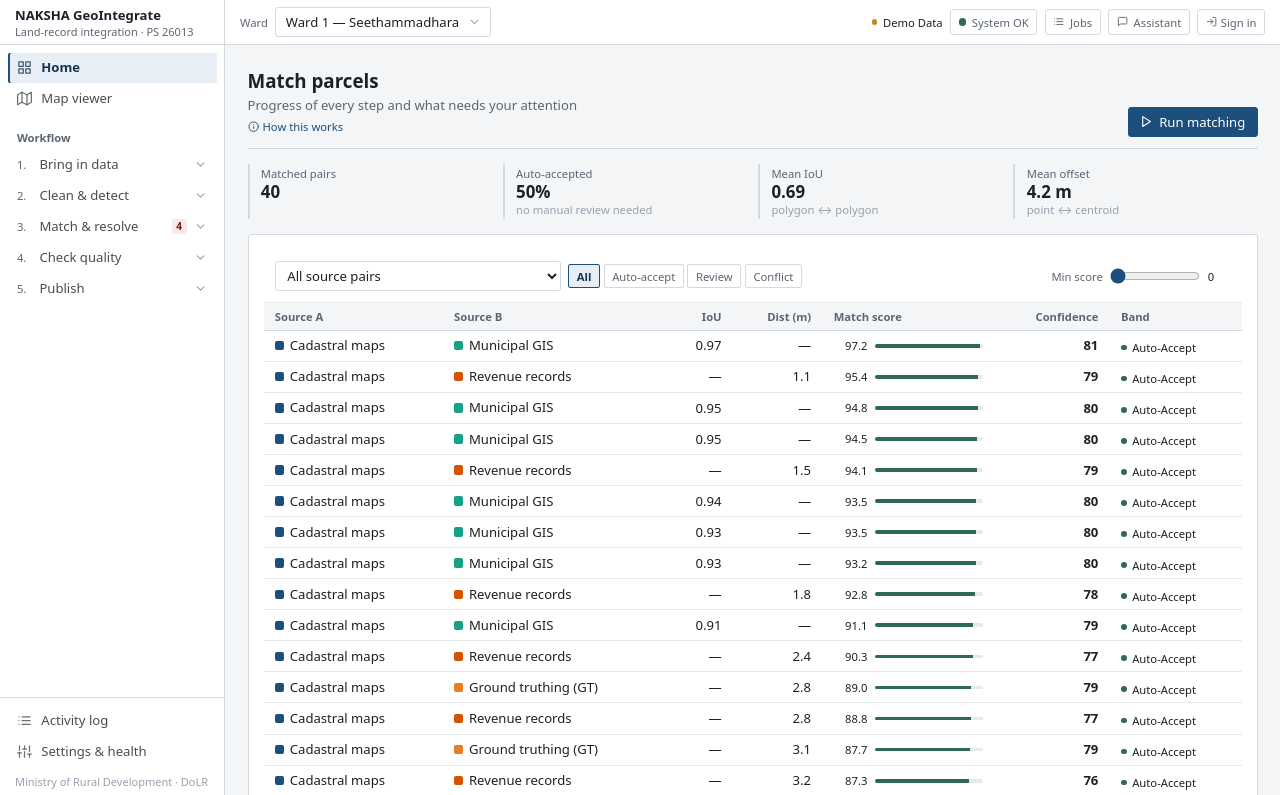
Test case: MatchingPage › shows scored matches and the confidence breakdown for a selected pair
Click the row "Cadastral maps Municipal GIS 0.97 — 97.2 81 Auto-accept" at [752, 346], box [264,330,1242,361]
(page scrolled)
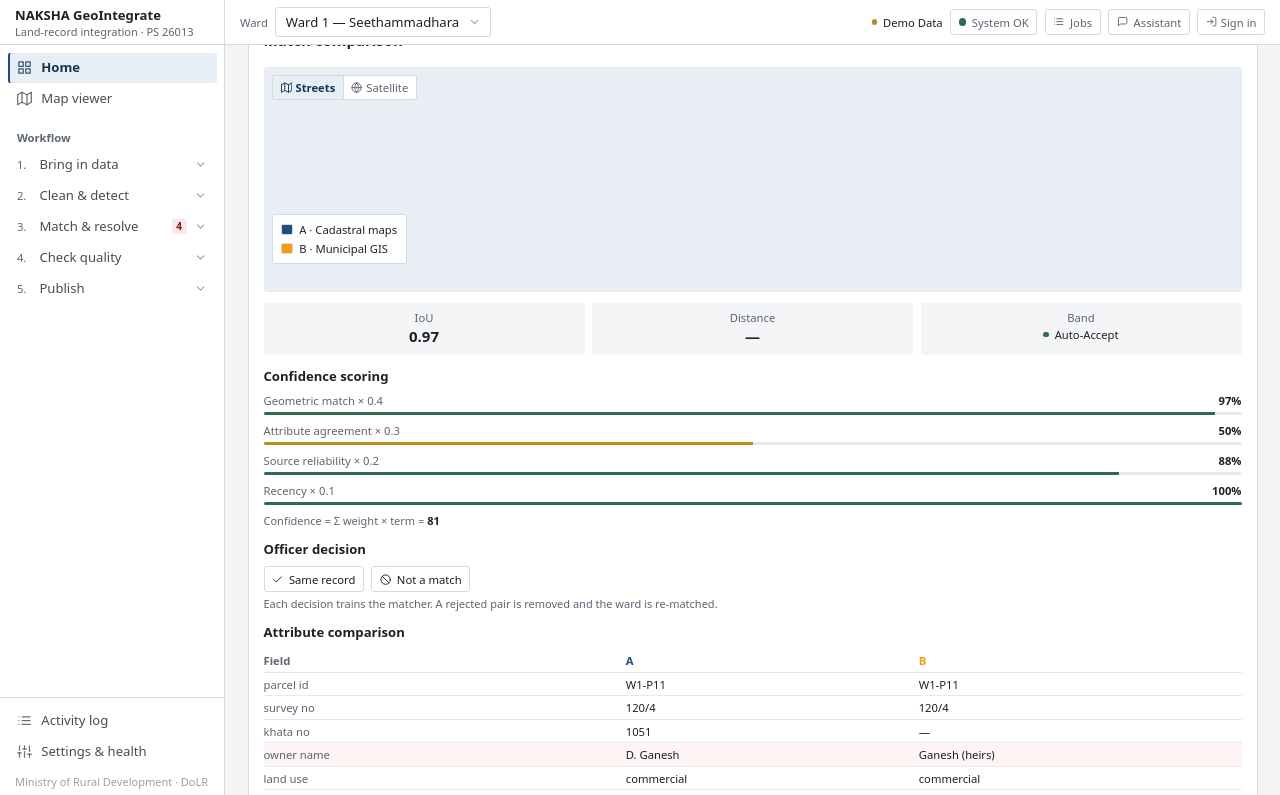
Result: the heading "Confidence scoring" is shown at [264,367,388,385]
Result: the text "Geometric match × 0.4" is shown at [264,393,383,408]
